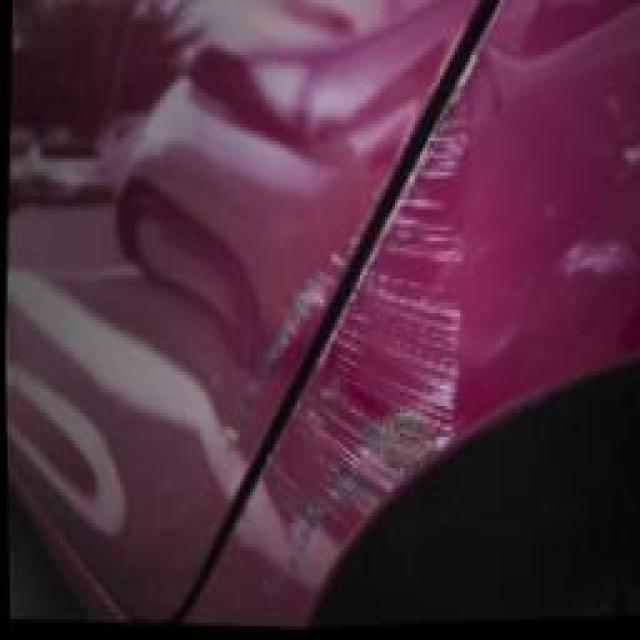Door: (199, 13, 469, 507)
Fender: (224, 55, 477, 627)
